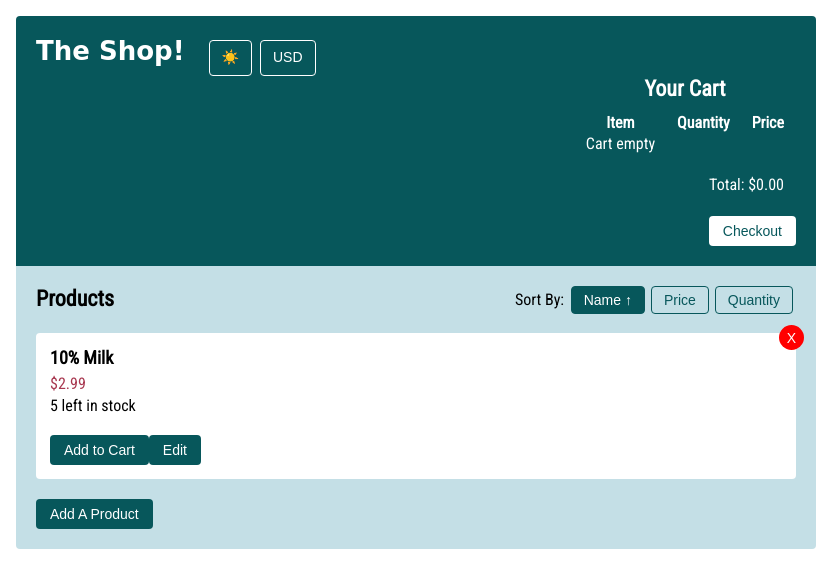
removes product from list when clicking delete
The image size is (833, 566).
Click the button "X": coordinates (792, 338) [779,325,804,350]
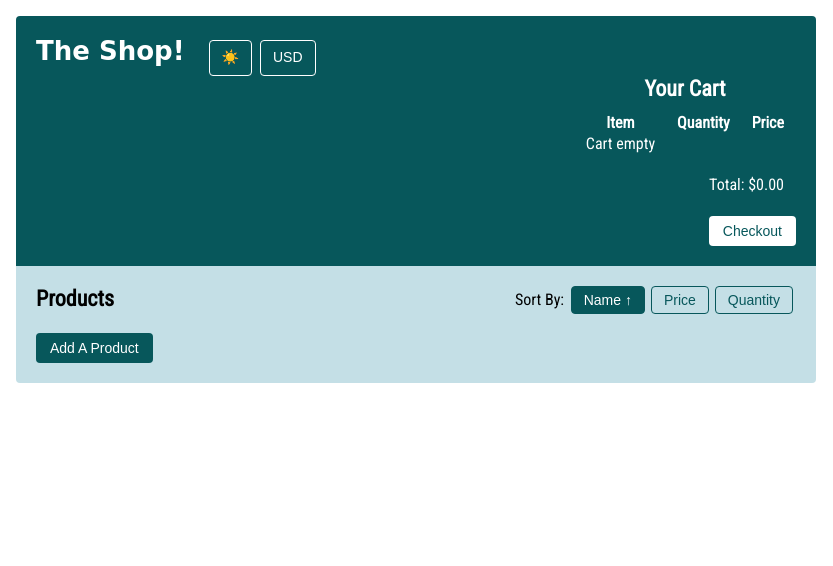
Now the heading "10% Milk" is gone
